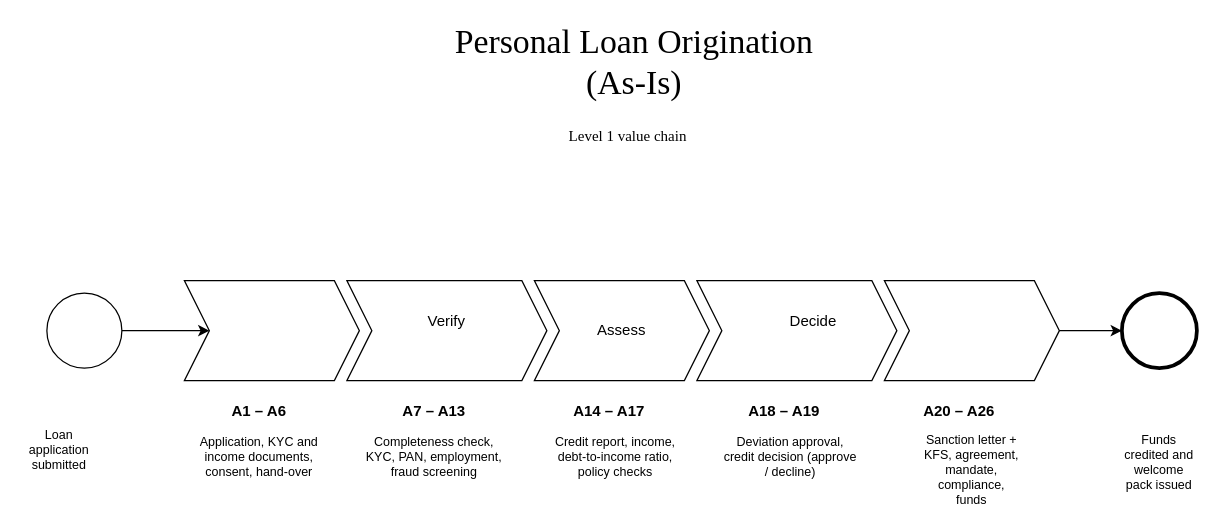
The diagram is 1219 pixels wide and 529 high, and some of its shapes have lost their labels. Each missing label, with the box of its shape:
Capture: (183, 279, 359, 381)
Close & Disburse: (883, 279, 1059, 381)
